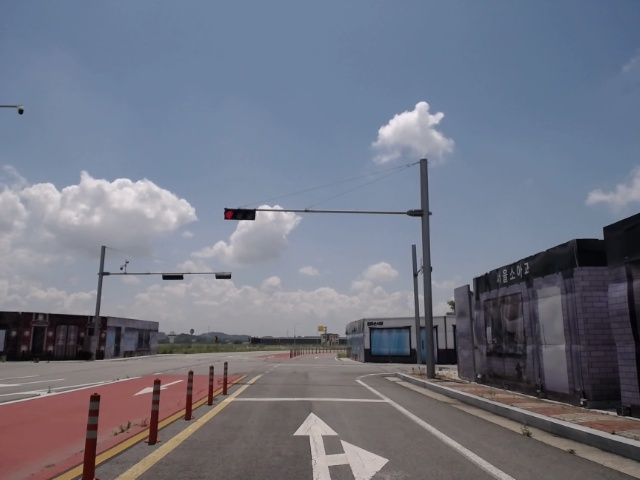red_3: (221, 206, 257, 222)
